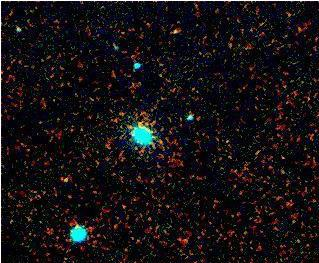star: (159, 17, 189, 47)
